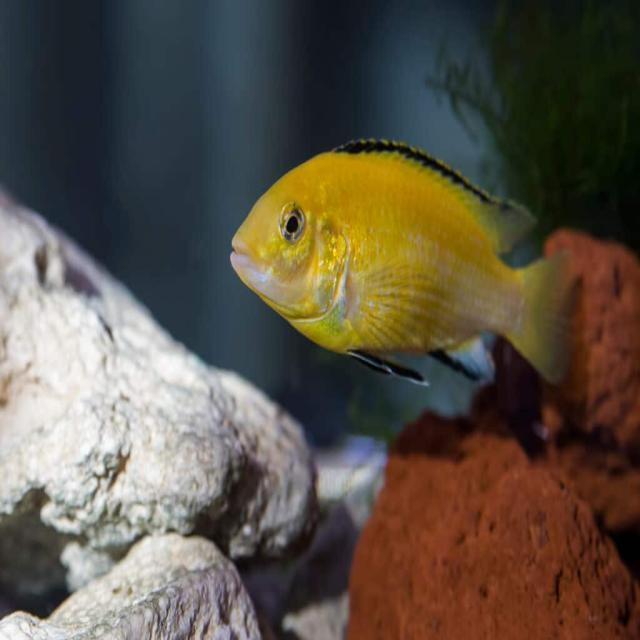YellowCichlid: (230, 144, 581, 378)
